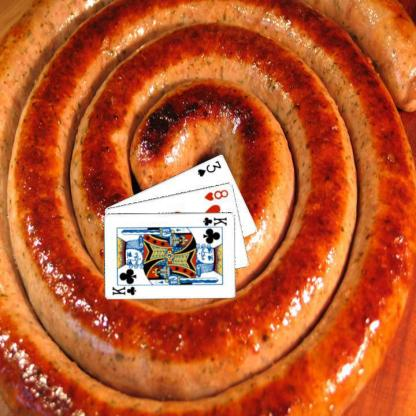3S: (195, 158, 222, 178)
8H: (202, 187, 229, 202)
KC: (198, 214, 228, 229), (110, 281, 140, 296)
